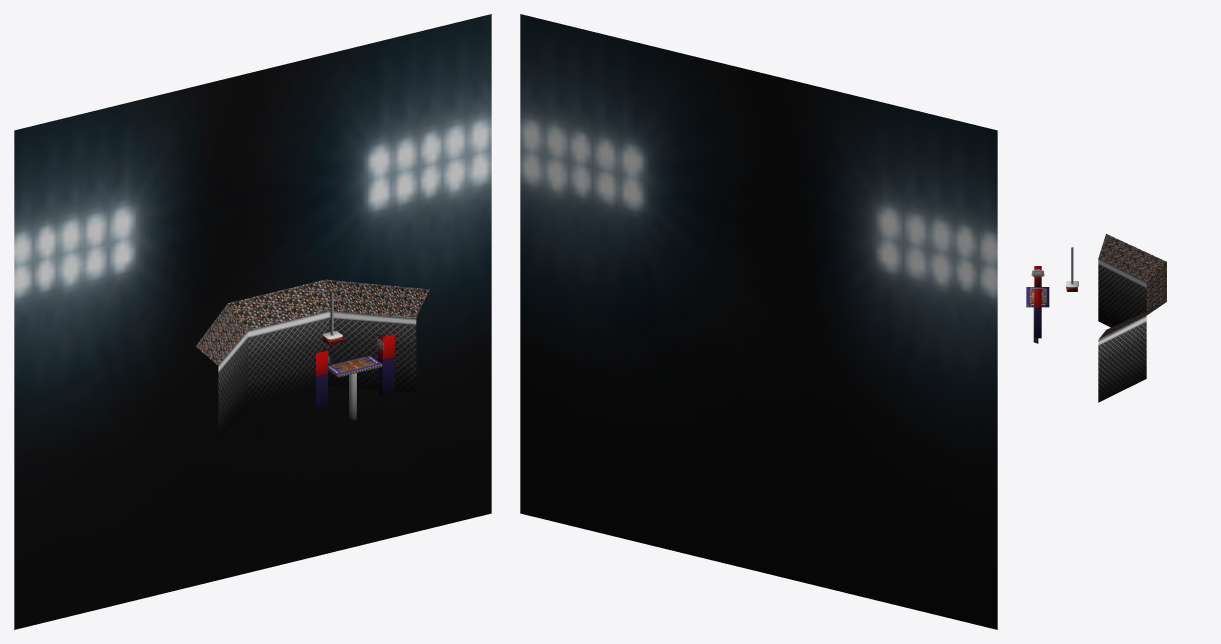
Rendered from Smash64RemixSmashketball.glb.
3 renders of one model, left to right at view 1: azimuth 30°, elevation 25°; view 2: azimuth 150°, elevation 25°; view 3: azimuth 270°, elevation 25°, orthographic. The views are drawn at different scales.
Visible parts, largest first — view 1: Plane, SMASH REMIX (n64_scene).002, SMASH REMIX (n64_scene).001, SMASH REMIX (n64_scene).003, SMASH REMIX (n64_scene).005, SMASH REMIX (n64_scene).004; view 2: Plane; view 3: SMASH REMIX (n64_scene).002, SMASH REMIX (n64_scene).001, SMASH REMIX (n64_scene).003, SMASH REMIX (n64_scene).004, SMASH REMIX (n64_scene).005.
Boxes of the visible parts, x1,y1,x2,y2 form: Plane: (14,14,491,629); SMASH REMIX (n64_scene).002: (218,318,416,440); SMASH REMIX (n64_scene).001: (195,279,429,365); SMASH REMIX (n64_scene).003: (218,292,416,421); SMASH REMIX (n64_scene).005: (316,354,394,412); SMASH REMIX (n64_scene).004: (316,331,394,376); Plane: (520,14,997,629); SMASH REMIX (n64_scene).002: (1098,265,1146,402); SMASH REMIX (n64_scene).001: (1098,234,1166,339); SMASH REMIX (n64_scene).003: (1033,247,1146,345); SMASH REMIX (n64_scene).004: (1034,266,1078,307); SMASH REMIX (n64_scene).005: (1034,285,1049,338).
Size of the model in its own units: 225 by 225 by 87.61.
Materials: 10 (10 with a texture image).
